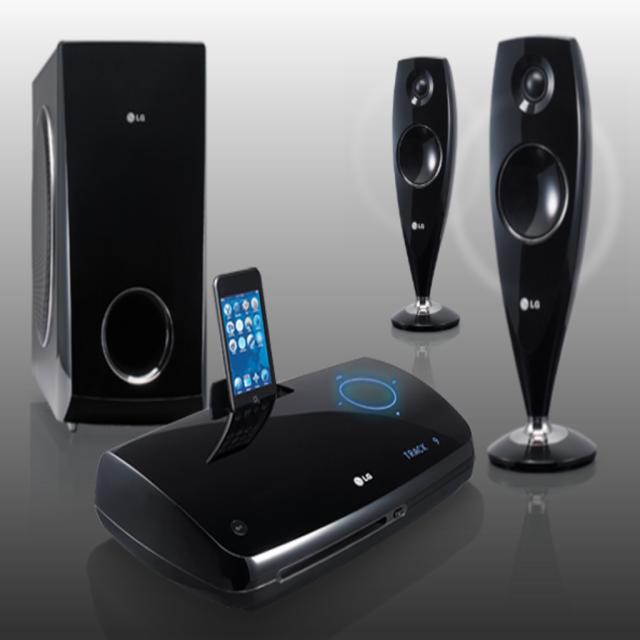Mobile-phone: (212, 268, 278, 424)
